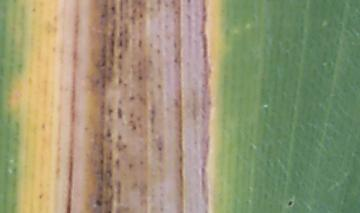tarspot: (286, 199, 294, 209)
